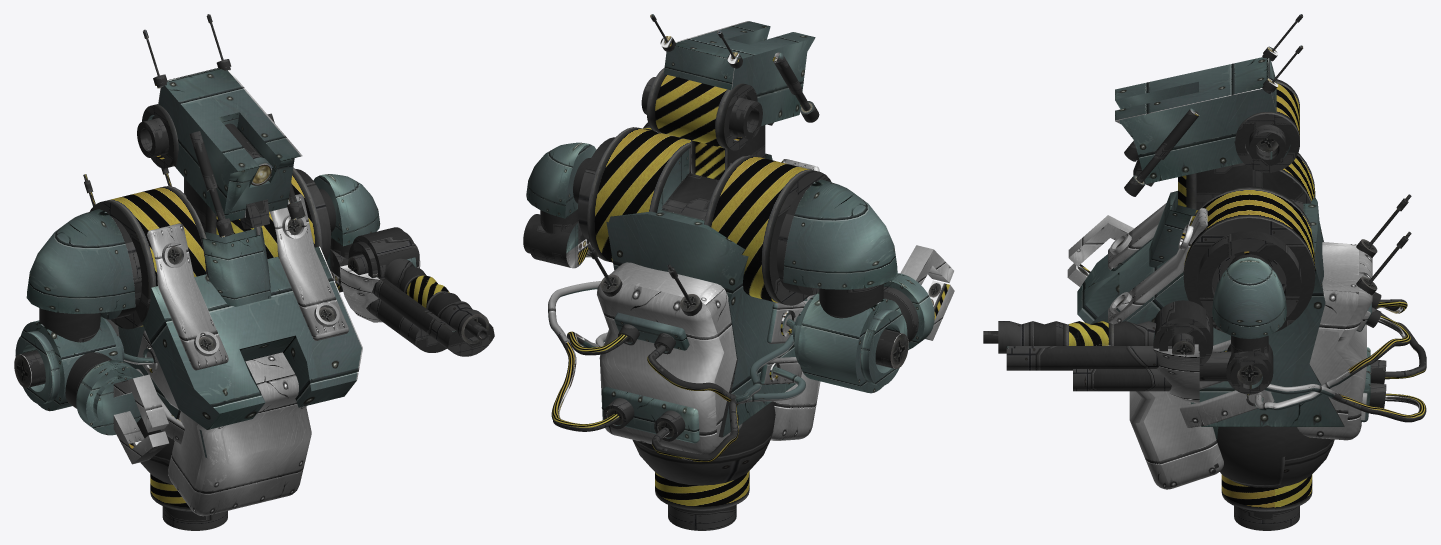
Rendered from A ROBOT TEXTURED.fbx.
3 views of the same model, side by side, from view 1: azimuth 30°, elevation 25°; view 2: azimuth 150°, elevation 25°; view 3: azimuth 270°, elevation 25° (orthographic). The views are drawn at different scales.
Parts seen in each view (by area): view 1: Null_Robot_Head_Cube_1_1; view 2: Null_Robot_Head_Cube_1_1; view 3: Null_Robot_Head_Cube_1_1.
Boxes of the visible parts, bbox=[...] form: Null_Robot_Head_Cube_1_1: bbox=[14, 14, 494, 530]; Null_Robot_Head_Cube_1_1: bbox=[523, 14, 954, 530]; Null_Robot_Head_Cube_1_1: bbox=[983, 14, 1426, 530].
Bounding box in the file's own units: 4.41 × 5.61 × 4.64.
Materials: 1 (1 with a texture image).
